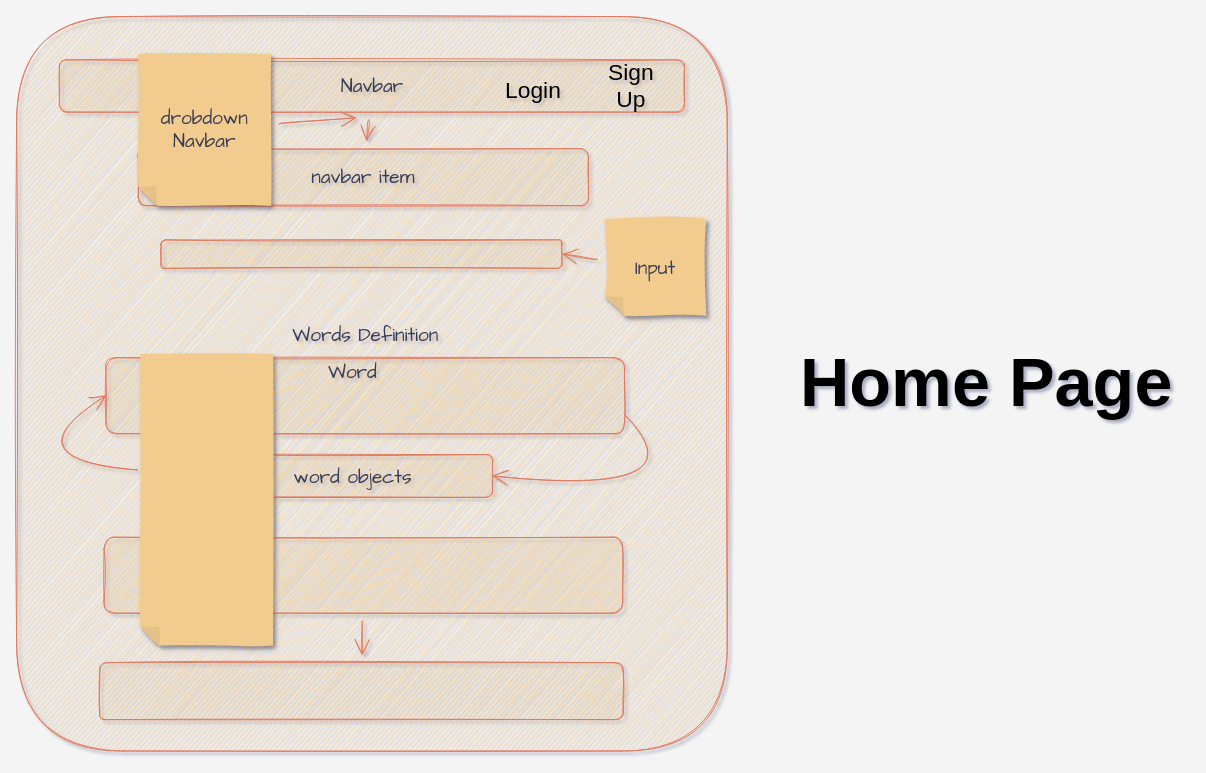
This 1206x773 diagram has some shape labels left out. The shapes that lost their labels are listed below. From the top down, each one's centre as x and y in pixels, then its label:
At point 361,253: "Enter a word for definition".
At point 207,501: "objects inside words list".
